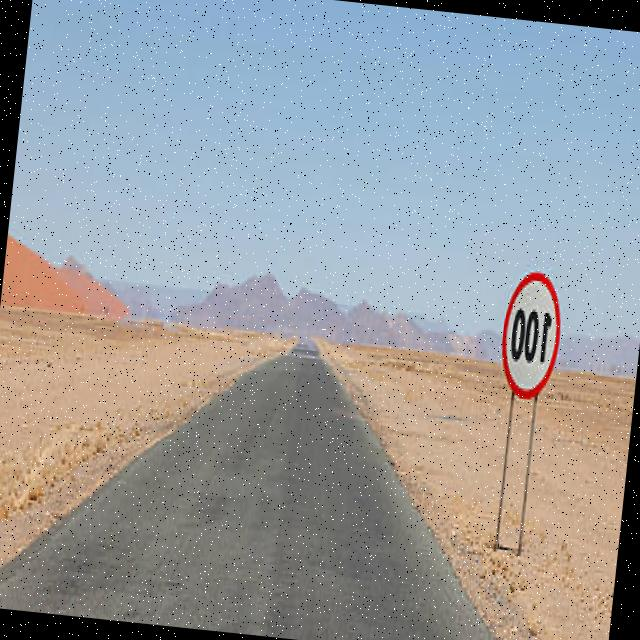speed_limit_100: (490, 267, 570, 402)
